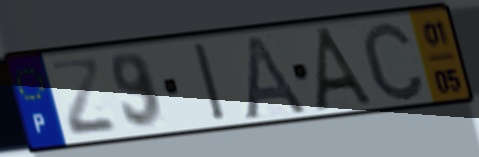9: (109, 50, 165, 131)
A: (241, 31, 311, 123), (312, 23, 381, 112)
C: (358, 18, 429, 104)
I: (189, 39, 230, 125)
Z: (46, 57, 120, 139)
